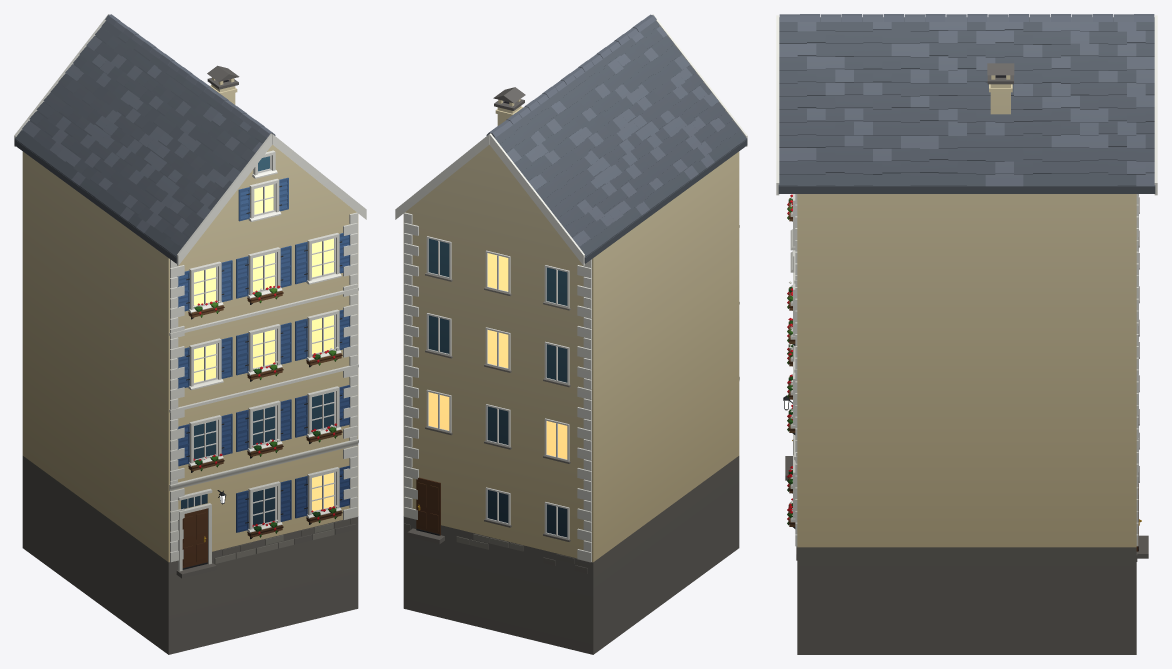
The model's file is TownHouse_J.fbx.
3 views of the same model, side by side, from view 1: azimuth 30°, elevation 25°; view 2: azimuth 150°, elevation 25°; view 3: azimuth 270°, elevation 25° (orthographic). The views are drawn at different scales.
Visible parts, largest first — view 1: TownHouse_J_LOD0; view 2: TownHouse_J_LOD0; view 3: TownHouse_J_LOD0.
Part boxes in pixels (x1=…): TownHouse_J_LOD0: x1=14, y1=14, x2=366, y2=654; TownHouse_J_LOD0: x1=395, y1=14, x2=747, y2=654; TownHouse_J_LOD0: x1=776, y1=14, x2=1157, y2=654.
Size of what is drawn, in the model's own units: 7.5 by 19.07 by 11.24.
Materials: 1 (1 with a texture image).
